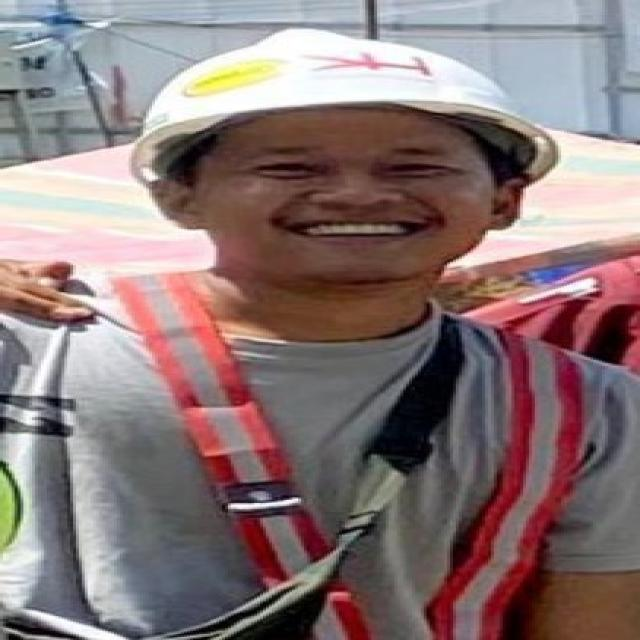safetyhelmet: (121, 22, 564, 224)
